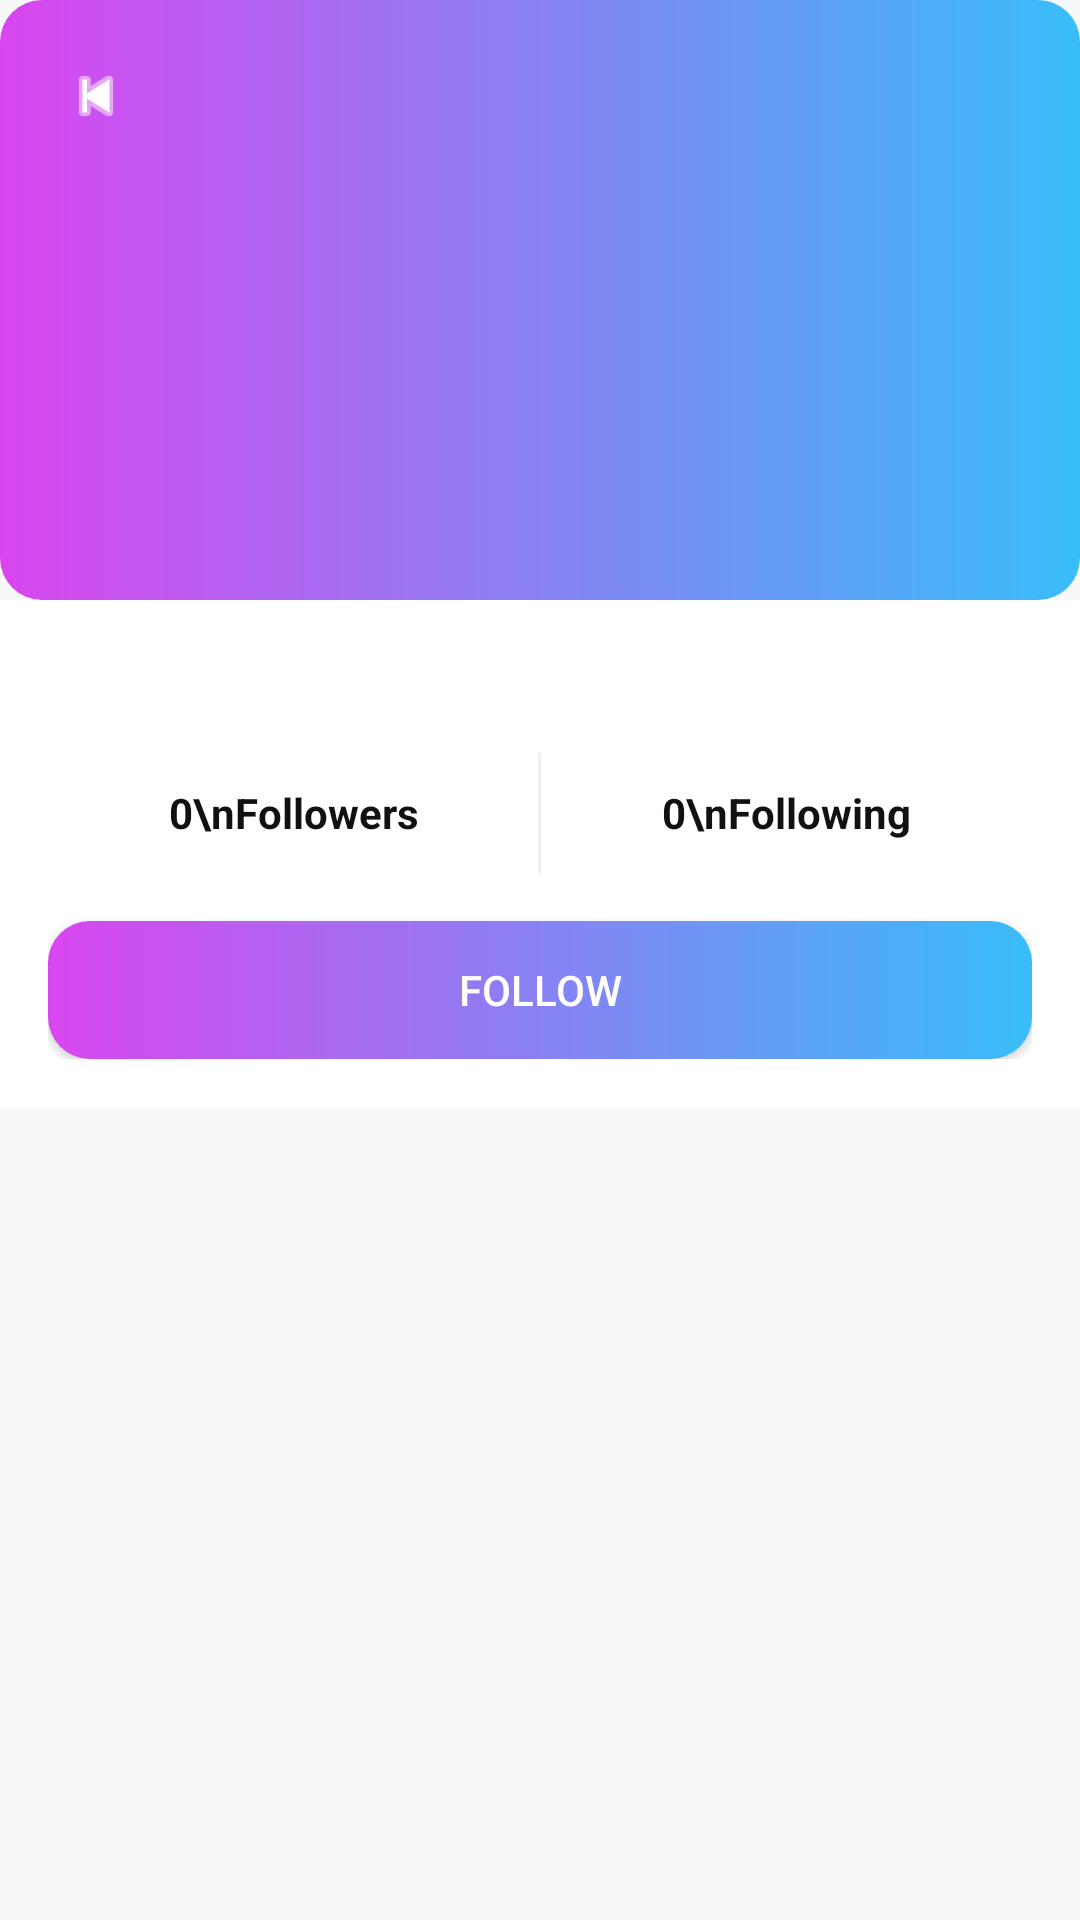

Named icons in this screenshot (1080w x 1920h) and their bounding boxes, bbox=[x1, y1, x2, y2]:
previous: bbox=[79, 76, 113, 116]
